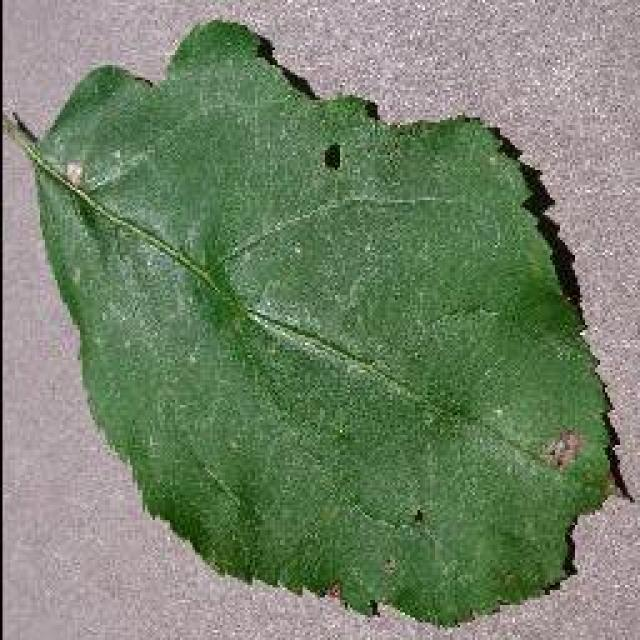Black_rot: (5, 15, 623, 627)
